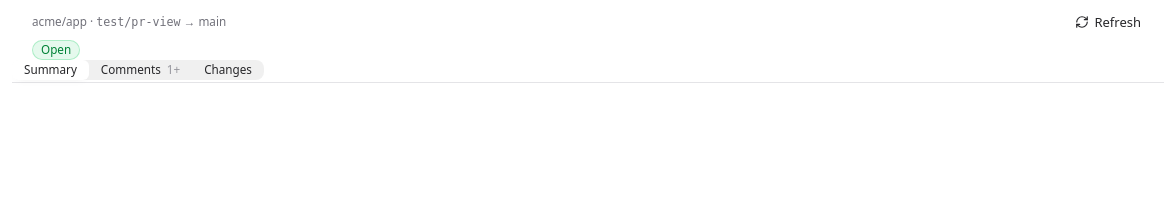
Test: PullRequestPanel › retains loaded comments while indicating that more could not be fetched
The image size is (1164, 212).
Press the mouse on the tab "Comments 1+" at (140, 70), box x1=89 y1=60 x2=192 y2=80
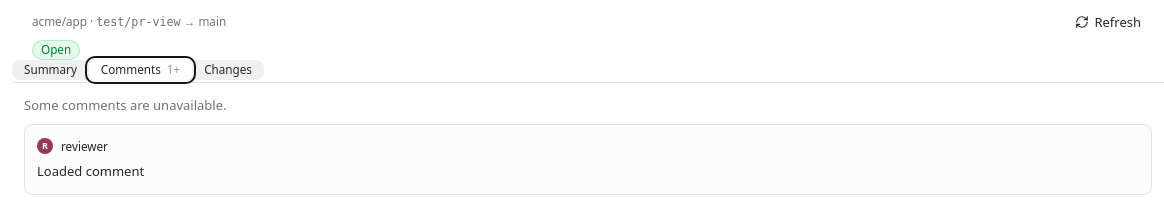
Expected: the text "Loaded comment" is shown, x1=37 y1=162 x2=144 y2=180
Expected: the text "Some comments are unavailable." is shown, x1=24 y1=96 x2=226 y2=114
